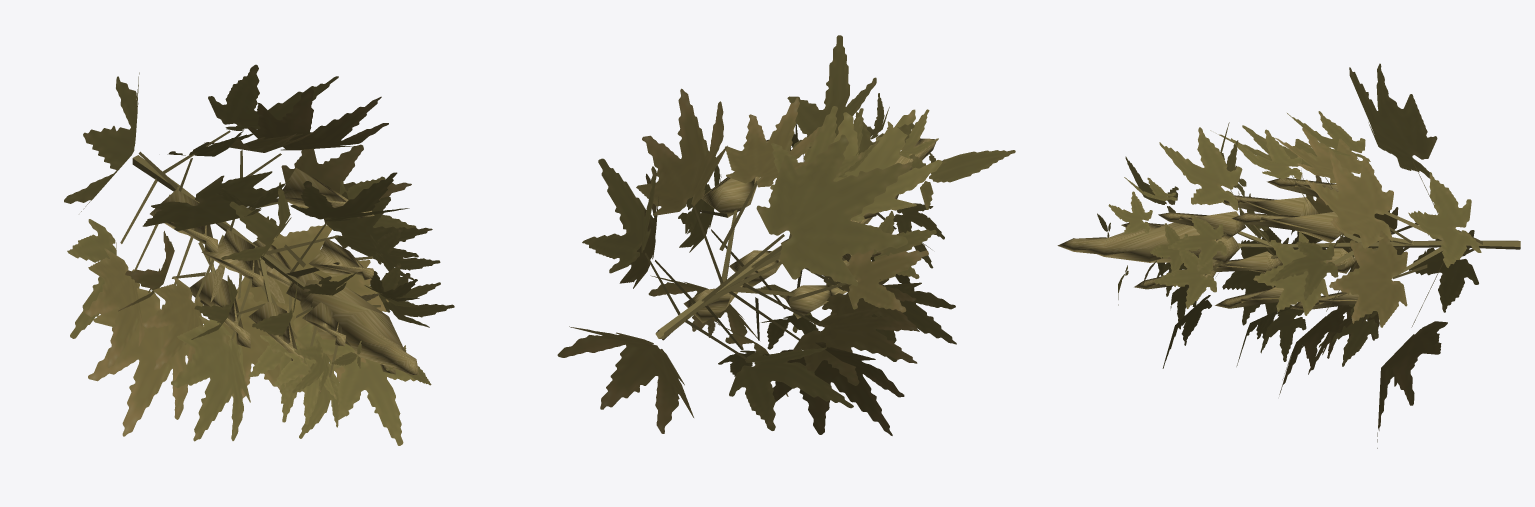
Rendered from p_hybrid_ripe_c2_cards.obj.
The picture shows the model from 3 angles, left to right: view 1: azimuth 30°, elevation 25°; view 2: azimuth 150°, elevation 25°; view 3: azimuth 270°, elevation 25°; orthographic projection. The views are drawn at different scales.
Size of the model in its own units: 1.35 by 1.32 by 1.48.
1 material, 1 textured.
